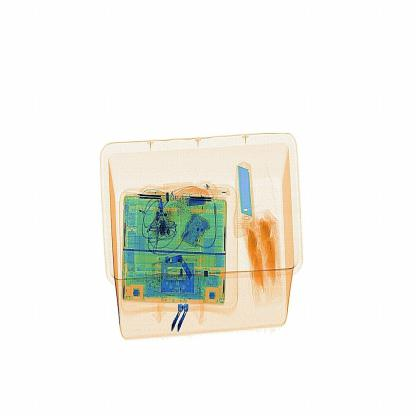pliers: (235, 162, 256, 233)
